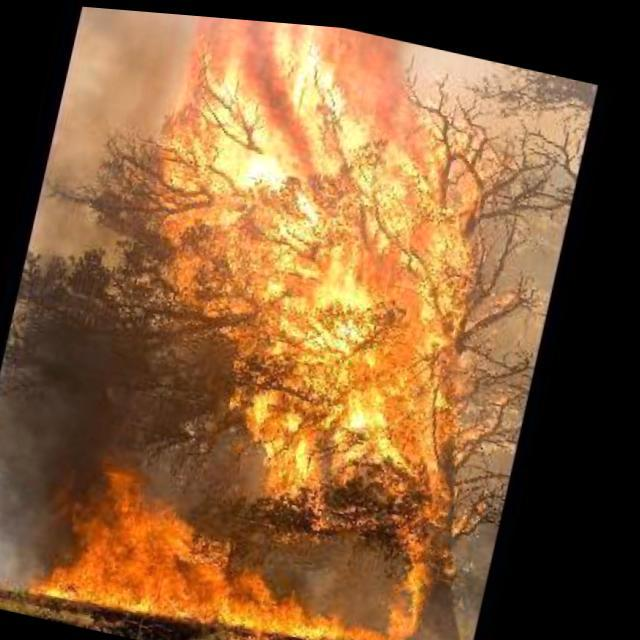fire: (38, 5, 564, 640)
